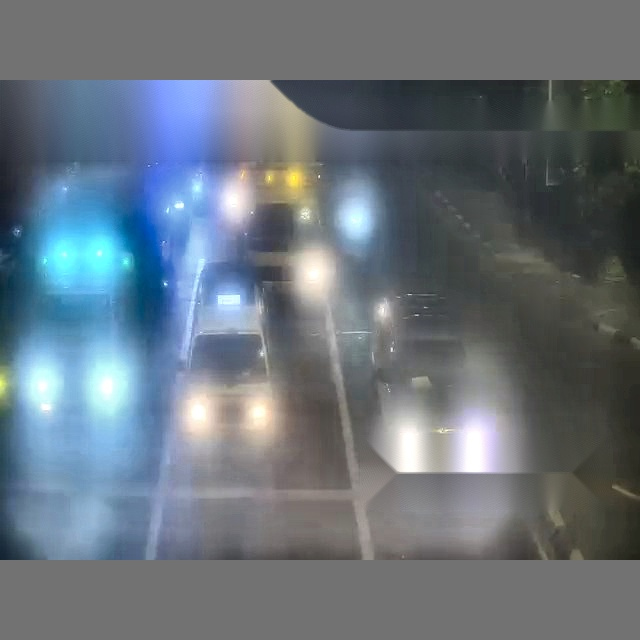Bis: (0, 65, 264, 558)
Mobil: (182, 265, 274, 456)
Motor: (224, 162, 254, 230)
